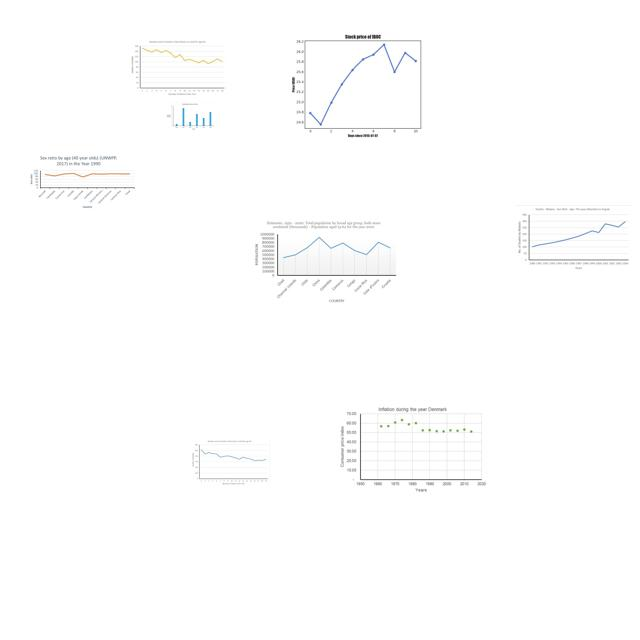Graph: (285, 27, 437, 141), (339, 405, 487, 493), (251, 218, 399, 305), (515, 205, 631, 273), (28, 155, 136, 211), (129, 39, 227, 98), (190, 439, 270, 487), (165, 102, 215, 131)
